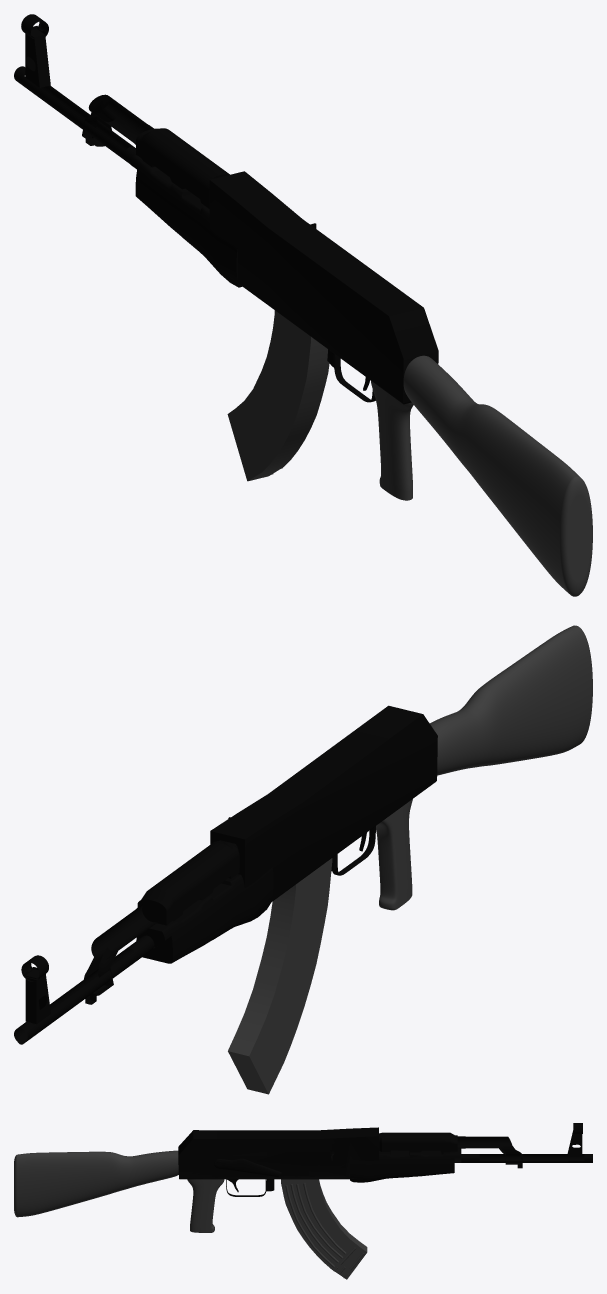
3 renders of one model, top to bottom at view 1: azimuth 30°, elevation 25°; view 2: azimuth 150°, elevation 25°; view 3: azimuth 270°, elevation 25°, orthographic. The views are drawn at different scales.
Parts seen in each view (by area): view 1: gunBody, Stock, Magazine, metalCircleFront, forwardGrip, Handle_Grip, forwardGrip_001, sightHolder32; view 2: gunBody, Stock, Magazine, metalCircleFront, forwardGrip, Handle_Grip, forwardGrip_001, sightHolder32; view 3: gunBody, Stock, Magazine, forwardGrip, metalCircleFront, Handle_Grip, forwardGrip_001, Cube, reloaderThingy, sightHolder32.
Part boxes in pixels (<box>): gunBody: <box>209,171,438,404</box>; Stock: <box>403,355,592,596</box>; Magazine: <box>227,310,329,481</box>; metalCircleFront: <box>82,94,229,208</box>; forwardGrip: <box>130,155,242,287</box>; Handle_Grip: <box>370,380,413,500</box>; forwardGrip_001: <box>14,66,136,164</box>; sightHolder32: <box>21,14,50,87</box>; gunBody: <box>210,705,437,921</box>; Stock: <box>430,625,592,775</box>; Magazine: <box>228,858,332,1094</box>; metalCircleFront: <box>84,840,239,1004</box>; forwardGrip: <box>25,867,273,1038</box>; Handle_Grip: <box>376,799,412,910</box>; forwardGrip_001: <box>14,935,154,1044</box>; sightHolder32: <box>21,955,50,1024</box>; gunBody: <box>178,1127,378,1179</box>; Stock: <box>14,1150,178,1217</box>; Magazine: <box>281,1179,367,1279</box>; forwardGrip: <box>350,1148,558,1182</box>; metalCircleFront: <box>379,1132,522,1168</box>; Handle_Grip: <box>187,1179,224,1232</box>; forwardGrip_001: <box>461,1154,592,1162</box>; Cube: <box>213,1158,281,1177</box>; reloaderThingy: <box>280,1143,334,1160</box>; sightHolder32: <box>567,1123,582,1156</box>.
Size of the model in its own units: 48.82 by 224 by 764.
Materials: 2 (2 with a texture image).
